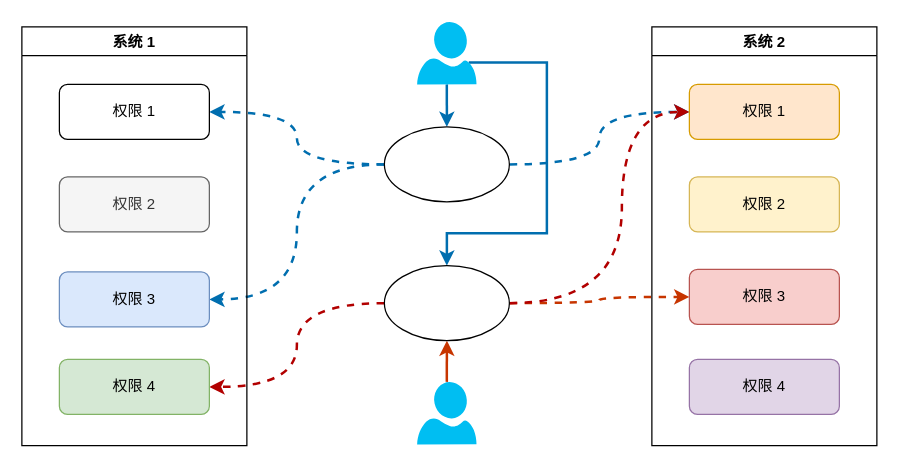
Image size: 899x468. Some labels were removed from this diagram. The box of each missing label's shape, as (x1, y1, x2, y2) in pixels:
角色 1: (383, 126, 509, 202)
角色 2: (383, 264, 509, 341)
